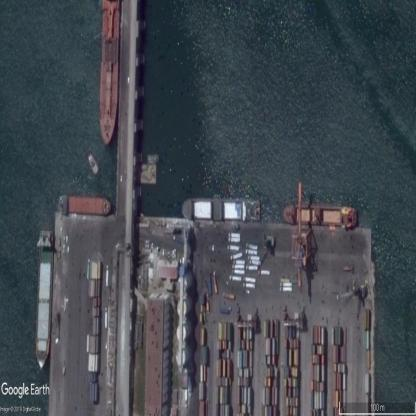ship: (34, 231, 52, 373), (101, 0, 118, 144), (179, 196, 263, 220), (283, 205, 358, 226), (54, 194, 112, 217), (88, 154, 99, 175), (147, 155, 160, 165)
